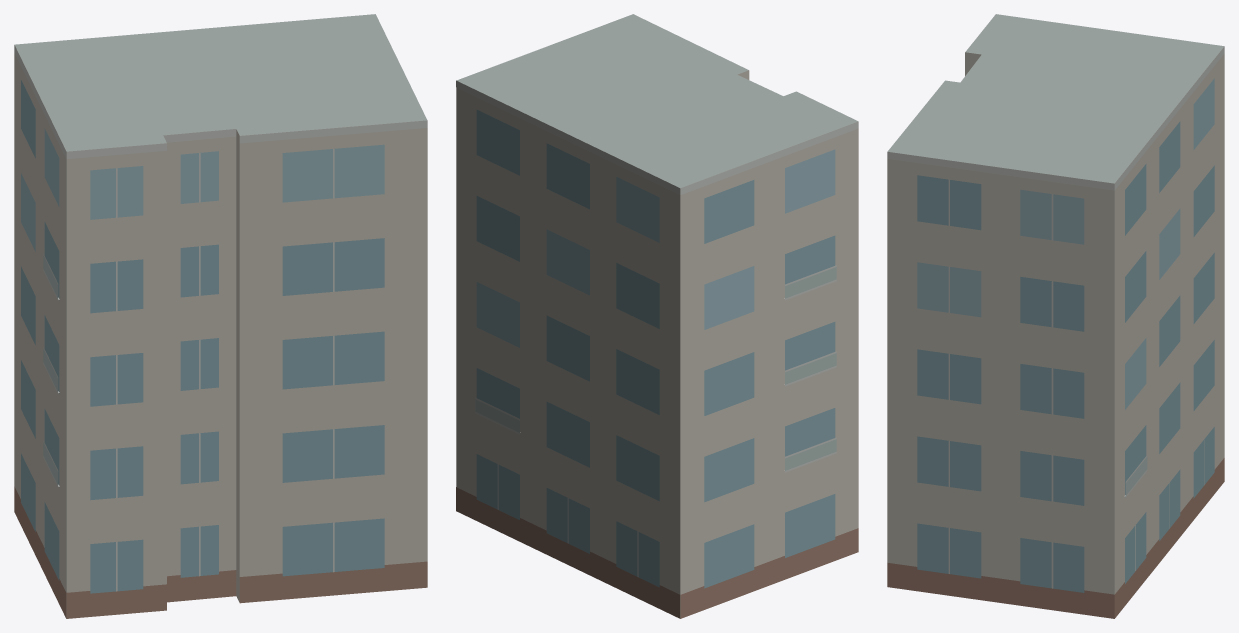
File: survey-upis-32539748.glb
3 renders of one model, left to right at view 1: azimuth 30°, elevation 25°; view 2: azimuth 150°, elevation 25°; view 3: azimuth 270°, elevation 25°, orthographic. The views are drawn at different scales.
Parts seen in each view (by area): view 1: survey-upis-32539748.tmp; view 2: survey-upis-32539748.tmp; view 3: survey-upis-32539748.tmp.
Part boxes in pixels (bbox=[...]): survey-upis-32539748.tmp: bbox=[14, 14, 427, 618]; survey-upis-32539748.tmp: bbox=[456, 14, 858, 618]; survey-upis-32539748.tmp: bbox=[887, 14, 1224, 618].
Size of the model in its own units: 12.62 by 15.1 by 10.61.
